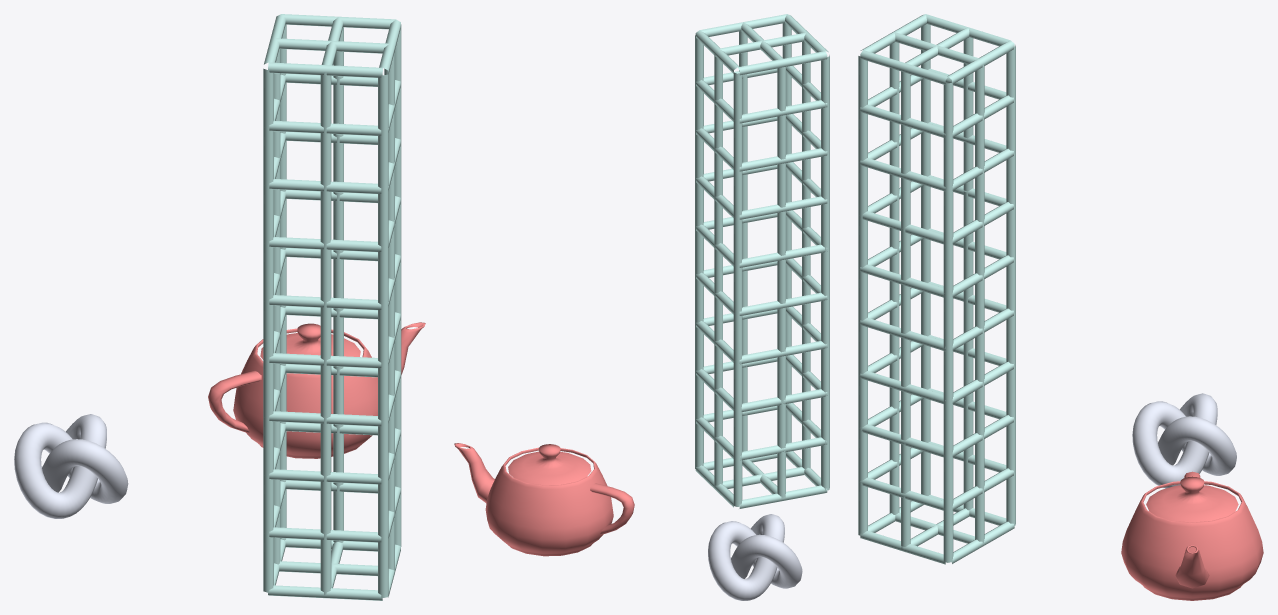
File: shadows.gltf
The picture shows the model from 3 angles, left to right: view 1: azimuth 30°, elevation 25°; view 2: azimuth 150°, elevation 25°; view 3: azimuth 270°, elevation 25°; orthographic projection. The views are drawn at different scales.
Parts seen in each view (by area): view 1: Box001, Teapot001, Torus Knot001; view 2: Box001, Teapot001, Torus Knot001; view 3: Box001, Teapot001, Torus Knot001.
Part boxes in pixels (left/top/right/bottom): Box001: left=263, top=14, right=401, bottom=600; Teapot001: left=208, top=322, right=425, bottom=458; Torus Knot001: left=14, top=414, right=128, bottom=518; Box001: left=695, top=14, right=829, bottom=508; Teapot001: left=454, top=443, right=634, bottom=556; Torus Knot001: left=708, top=514, right=802, bottom=600; Box001: left=858, top=14, right=1015, bottom=564; Teapot001: left=1121, top=471, right=1263, bottom=600; Torus Knot001: left=1132, top=393, right=1236, bottom=488.
Size of what is drawn, in the model's own units: 82.46 by 102 by 76.63.
